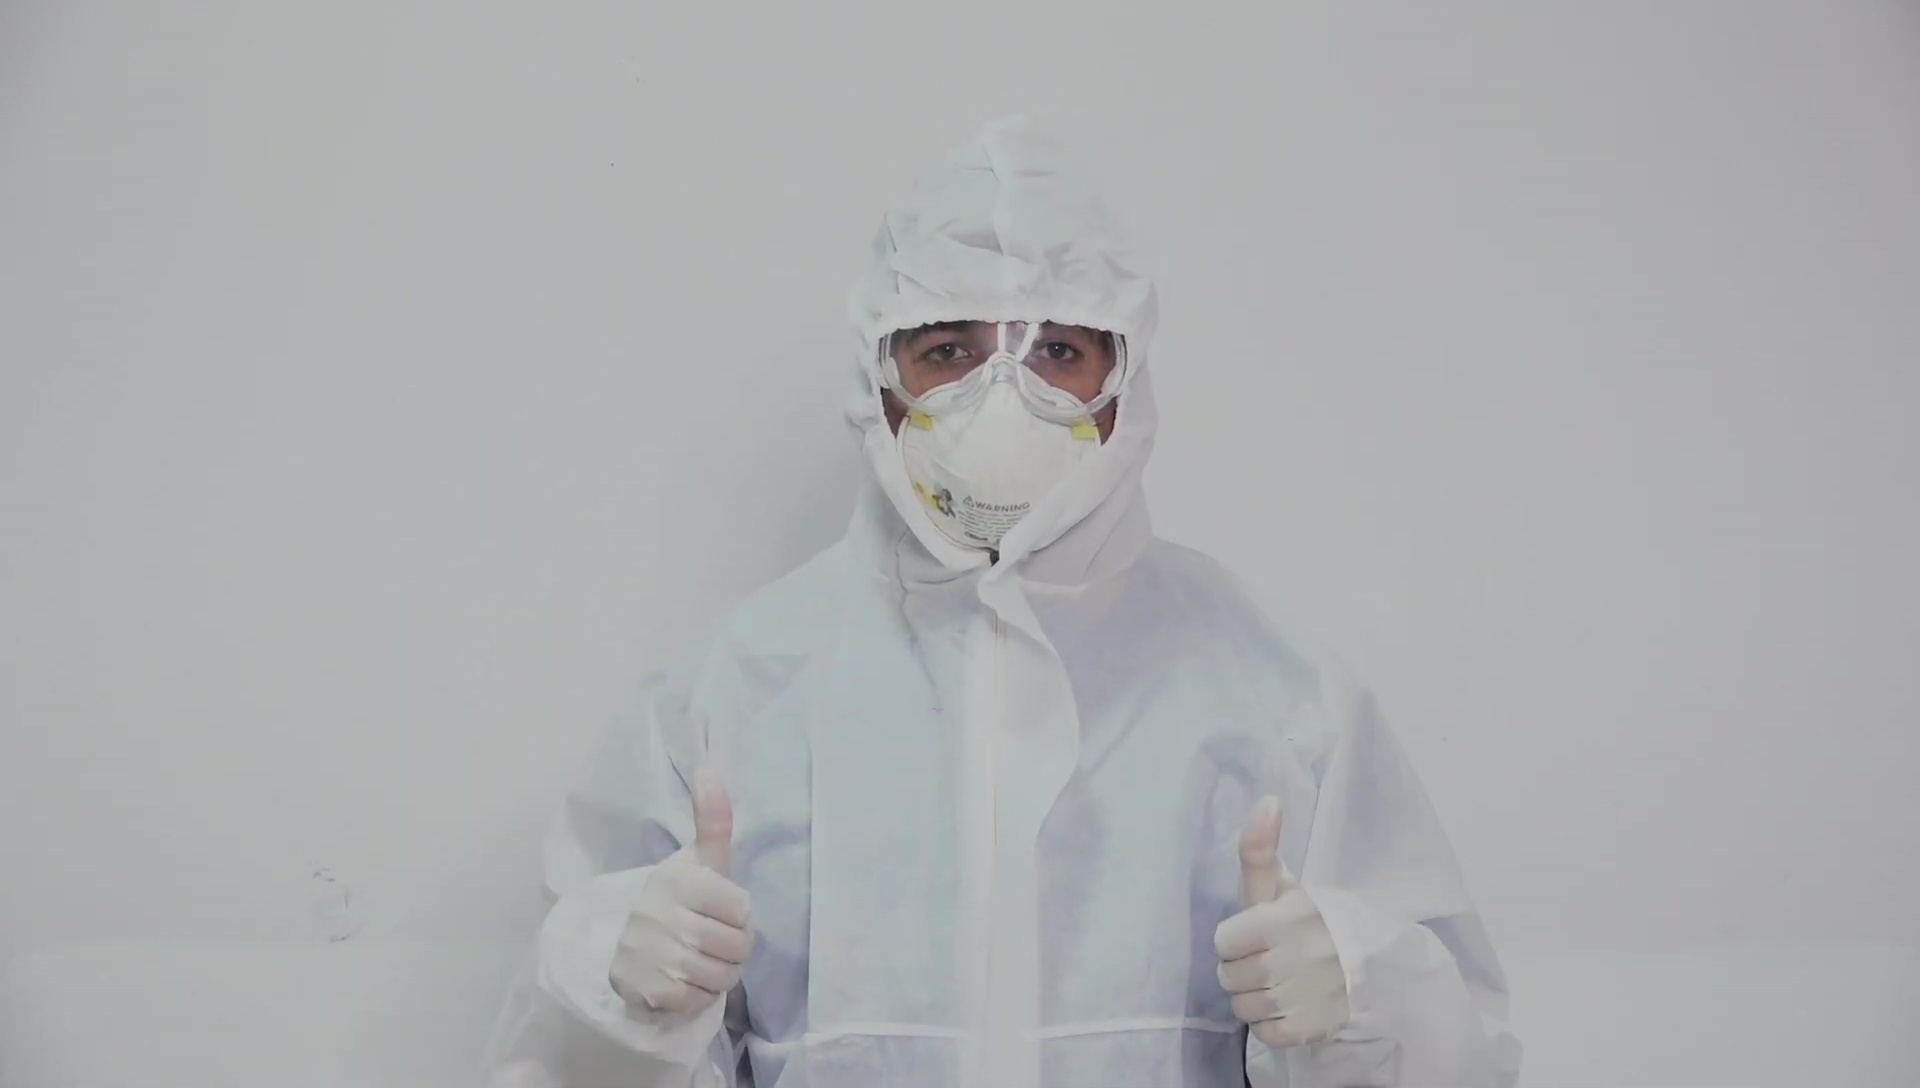Coverall: (474, 119, 1523, 1085)
Gloves: (606, 765, 755, 1015), (1209, 794, 1352, 1051)
Goggles: (876, 315, 1130, 427)
with_mask: (894, 349, 1111, 549)
